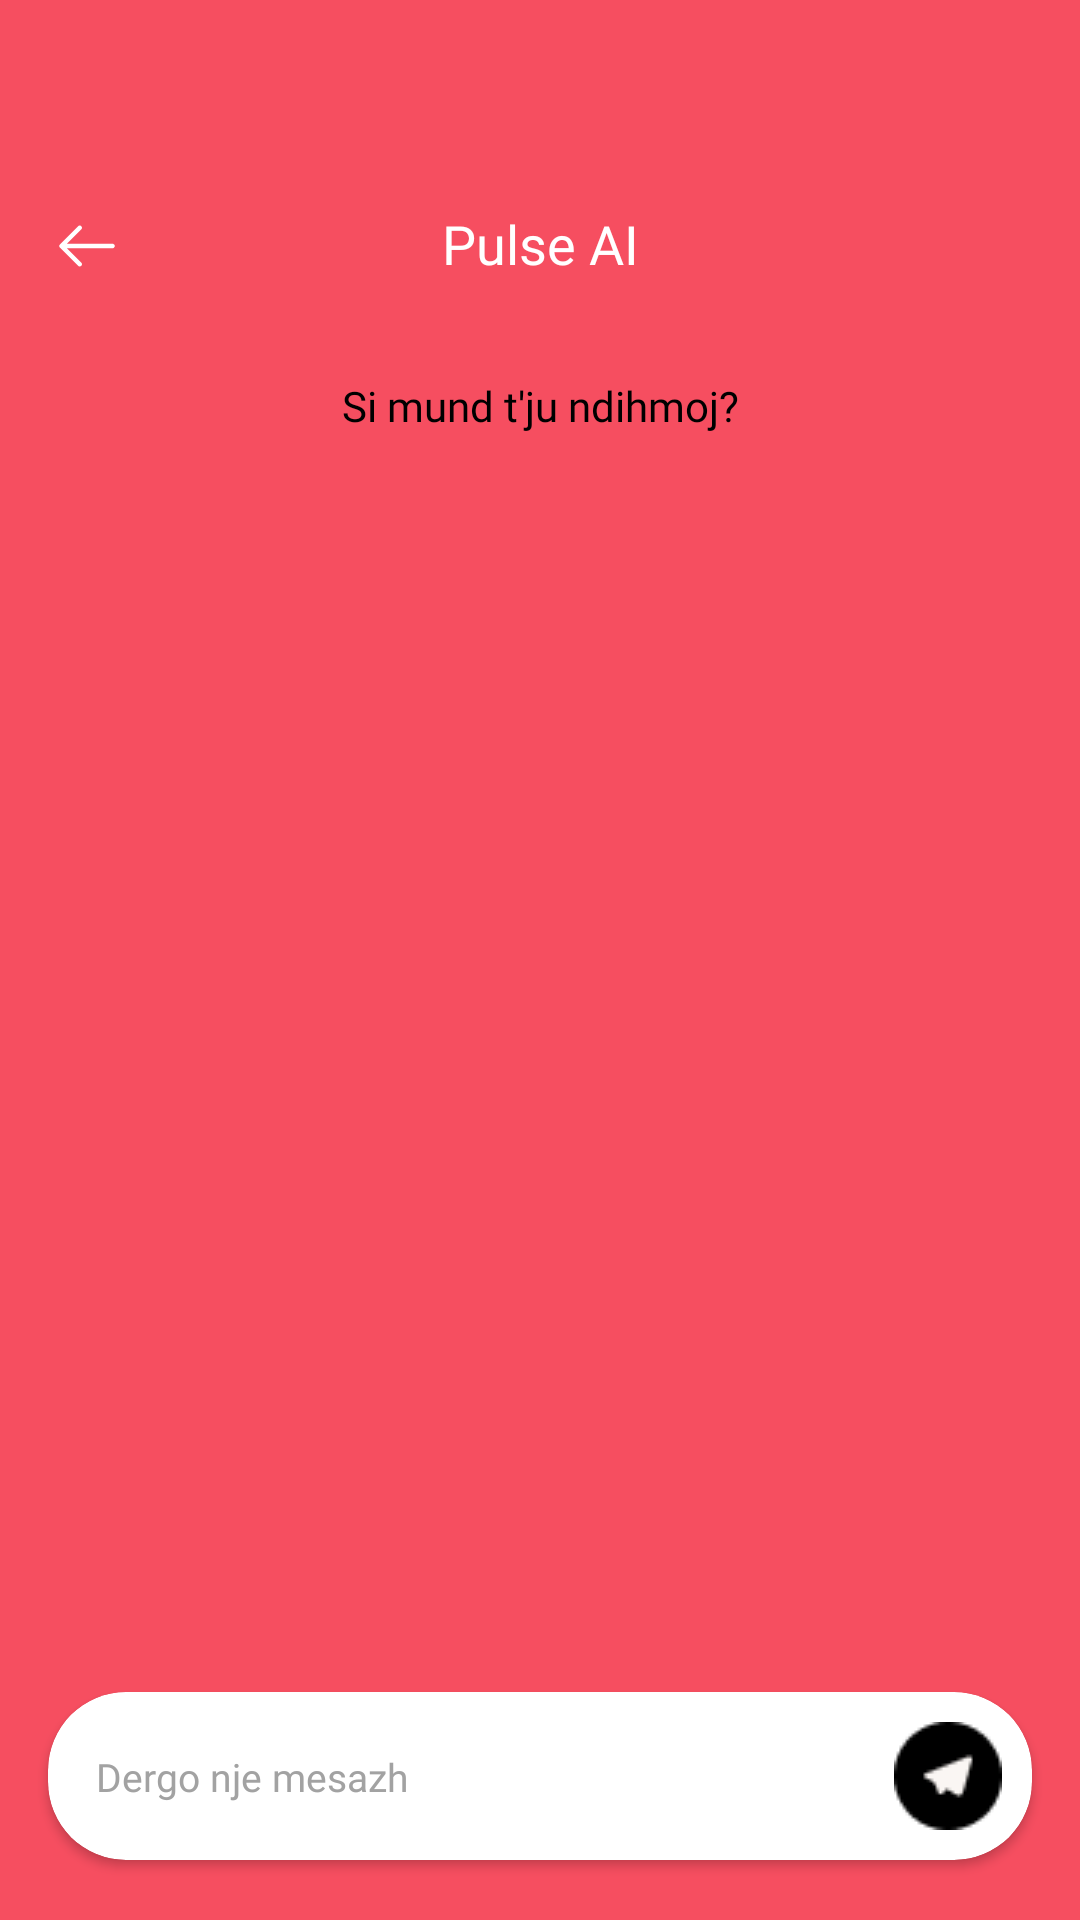

Named icons in this screenshot (1080px×1920px) and their centers, point (x, y):
back: point (87, 246)
send: point (948, 1776)
